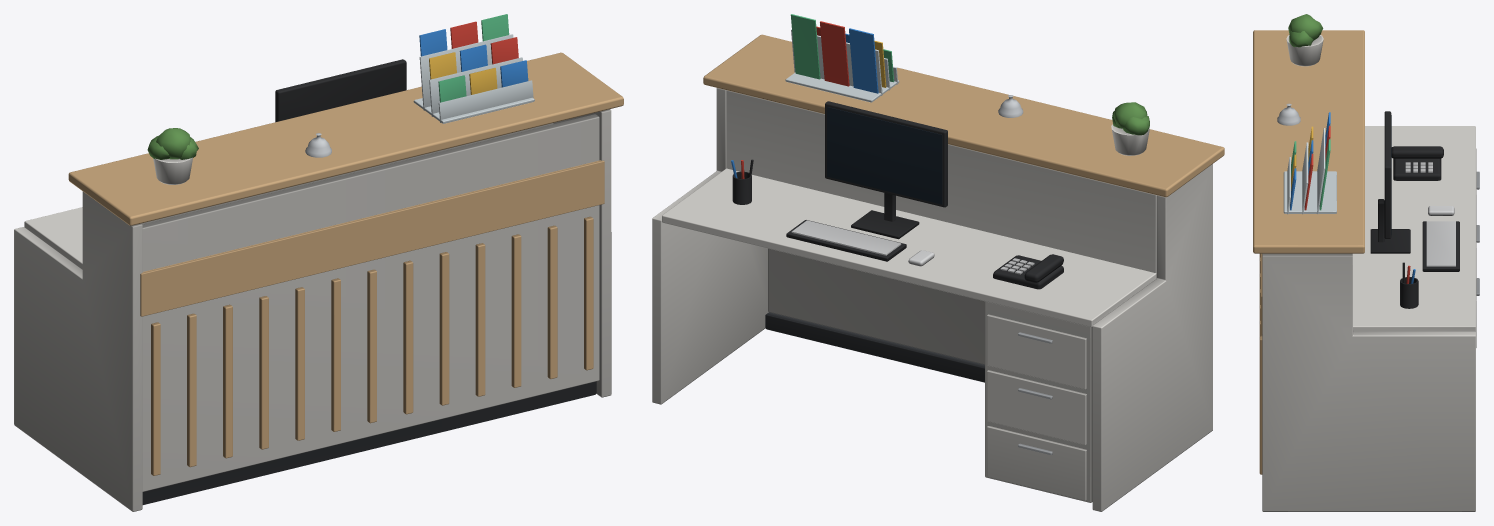
File: receptionDesk.glb
The picture shows the model from 3 angles, left to right: view 1: azimuth 30°, elevation 25°; view 2: azimuth 150°, elevation 25°; view 3: azimuth 270°, elevation 25°; orthographic projection. The views are drawn at different scales.
Parts seen in each view (by area): view 1: desk; view 2: desk; view 3: desk.
Part boxes in pixels (bbox=[...]): desk: bbox=[14, 14, 623, 511]; desk: bbox=[652, 14, 1224, 511]; desk: bbox=[1253, 14, 1479, 511].
Bounding box in the file's own units: 1.92 × 1.37 × 0.85.
